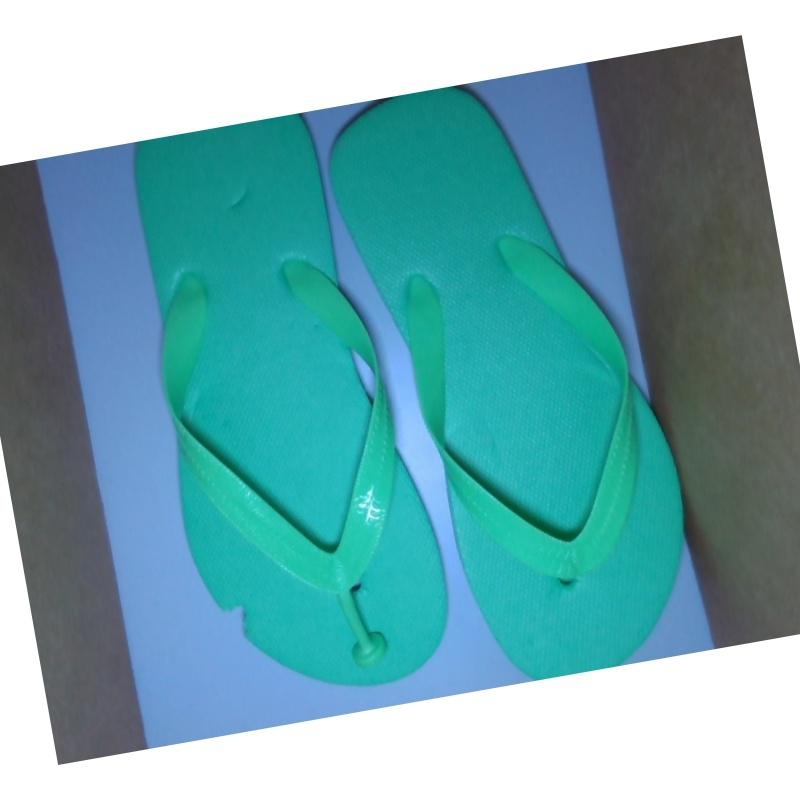chipped: (208, 583, 268, 656)
detached: (341, 613, 404, 675)
